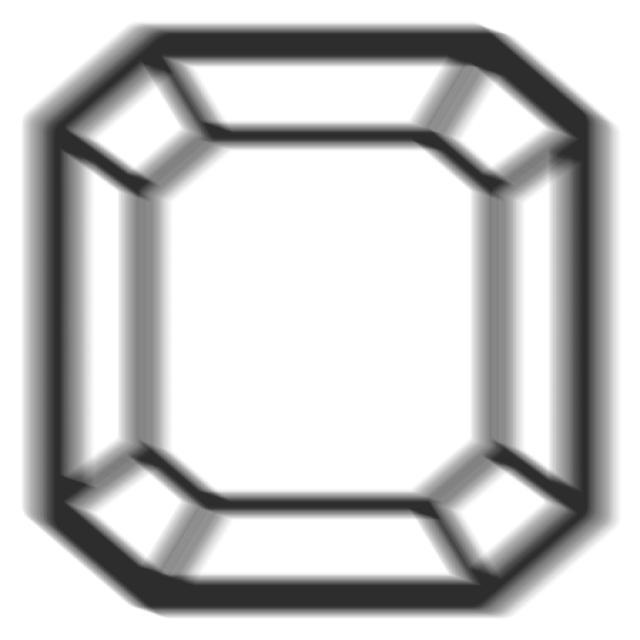emerald: (17, 16, 623, 628)
